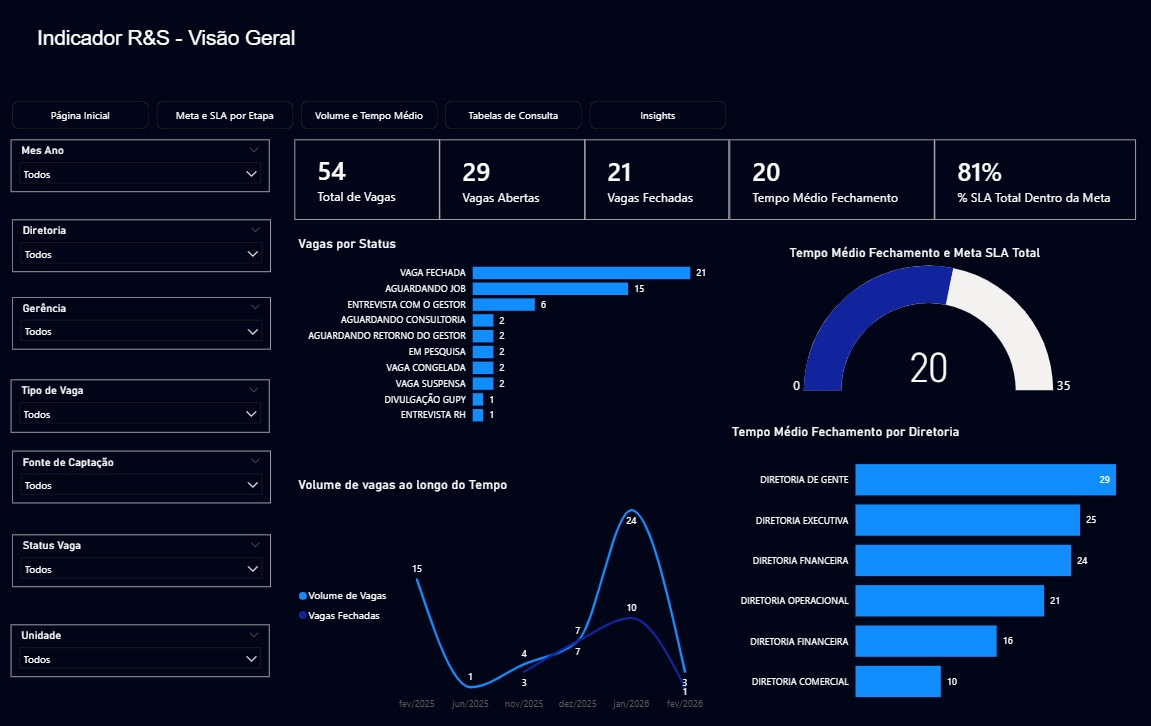

The dashboard page shown, as its layout file describes it:
{"tool":"powerbi","page":{"name":"Visão Geral","canvas":[1500,950],"ordinal":1},"visuals":[{"type":"cardVisual","fields":{"Data":["Medidas.Total Vagas"]},"box":[385.3,184.6,187.8,103.6],"z":0},{"type":"cardVisual","fields":{"Data":["Medidas.% SLA Total Dentro Meta"]},"box":[1213.6,184.9,260.7,104.3],"z":1000},{"type":"cardVisual","fields":{"Data":["Medidas.Tempo Médio Fechamento"]},"box":[948.3,184.9,265.3,104.3],"z":2000},{"type":"cardVisual","fields":{"Data":["Medidas.Vagas Fechadas"]},"box":[761.2,184.9,187.1,104.3],"z":3000},{"type":"cardVisual","fields":{"Data":["Medidas.Vagas Abertas"]},"box":[572.5,184.9,188.7,104.3],"z":4000},{"type":"clusteredBarChart","title":"Vagas por Status","fields":{"Category":["dStatus.STATUS DA VAGA"],"Y":["Medidas.Total Vagas"]},"box":[385.3,309.2,540.7,254.2],"z":5000},{"type":"gauge","fields":{"Y":["Medidas.Tempo Médio Fechamento"],"MaxValue":["Medidas.Meta SLA Total"]},"box":[1021.6,320.6,378.8,202.4],"z":6000},{"type":"clusteredBarChart","title":"Tempo Médio Fechamento por Diretoria","fields":{"Category":["dDiretoria.DIRETORIA "],"Y":["Medidas.Tempo Médio Fechamento"]},"box":[947.1,552.1,527.8,382.1],"z":7000},{"type":"slicer","fields":{"Values":["dDiretoria.DIRETORIA "]},"box":[19.4,288.2,335.1,68],"z":8000},{"type":"slicer","fields":{"Values":["dGerencia.GERENCIA "]},"box":[19.4,388.6,335.1,68],"z":9000},{"type":"slicer","fields":{"Values":["dFonte.FONTE"]},"box":[19.4,587.7,335.1,68],"z":10000},{"type":"slicer","fields":{"Values":["dTipo.TIPO"]},"box":[17.5,495.2,334.8,68.6],"z":11000},{"type":"slicer","fields":{"Values":["dStatus.STATUS DA VAGA"]},"box":[19.4,696.2,335.1,68],"z":12000},{"type":"lineChart","title":"Volume de vagas ao longo do Tempo","fields":{"Category":["fVagas.Mes Ano"],"Y":["Medidas.Total Vagas","Medidas.Vagas Fechadas"]},"box":[385.3,621.7,540.7,312.5],"z":13000},{"type":"slicer","fields":{"Values":["dUnidade.UNIDADE"]},"box":[17.8,812.7,335.1,68],"z":14000},{"type":"slicer","fields":{"Values":["fVagas.Mes Ano"]},"box":[17.8,184.6,335.1,68],"z":15000},{"type":"image","box":[976.2,21,498.6,98.8],"z":16000},{"type":"textbox","box":[47,34.2,527.9,70.5],"z":17000},{"type":"pageNavigator","box":[19.4,134.4,926,37.2],"z":18000}]}

Visuals, with their boxes in screenshot pixels (x1, y1, x2, y2), scaled from the page's 1500x950 canvas onto the 1151x726 screenshot:
cardVisual - Medidas.Total Vagas: <box>296,141,440,220</box>
cardVisual - Medidas.% SLA Total Dentro Meta: <box>931,141,1131,221</box>
cardVisual - Medidas.Tempo Médio Fechamento: <box>728,141,931,221</box>
cardVisual - Medidas.Vagas Fechadas: <box>584,141,728,221</box>
cardVisual - Medidas.Vagas Abertas: <box>439,141,584,221</box>
"Vagas por Status" clusteredBarChart: <box>296,236,711,431</box>
gauge - Medidas.Tempo Médio Fechamento x Medidas.Meta SLA Total: <box>784,245,1075,400</box>
"Tempo Médio Fechamento por Diretoria" clusteredBarChart: <box>727,422,1132,714</box>
slicer - dDiretoria.DIRETORIA : <box>15,220,272,272</box>
slicer - dGerencia.GERENCIA : <box>15,297,272,349</box>
slicer - dFonte.FONTE: <box>15,449,272,501</box>
slicer - dTipo.TIPO: <box>13,378,270,431</box>
slicer - dStatus.STATUS DA VAGA: <box>15,532,272,584</box>
"Volume de vagas ao longo do Tempo" lineChart: <box>296,475,711,714</box>
slicer - dUnidade.UNIDADE: <box>14,621,271,673</box>
slicer - fVagas.Mes Ano: <box>14,141,271,193</box>
image: <box>749,16,1132,92</box>
textbox: <box>36,26,441,80</box>
pageNavigator: <box>15,103,725,131</box>
